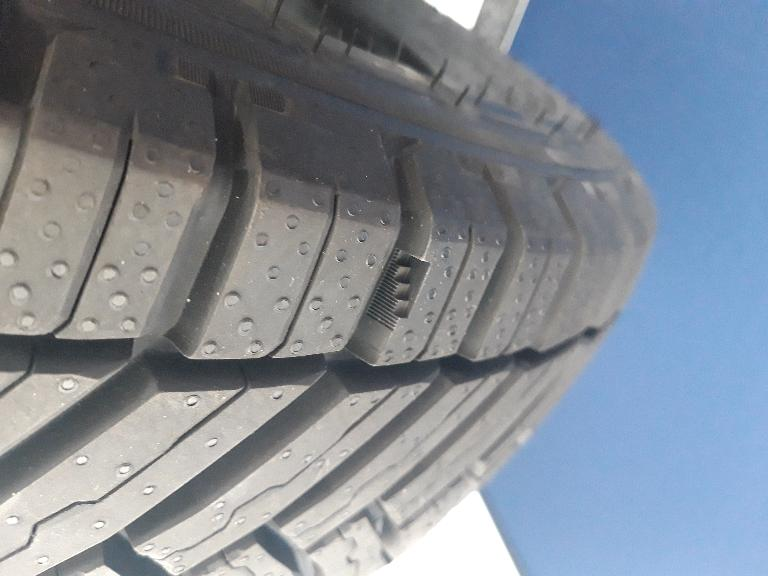temoin:100: (365, 247, 434, 333)
